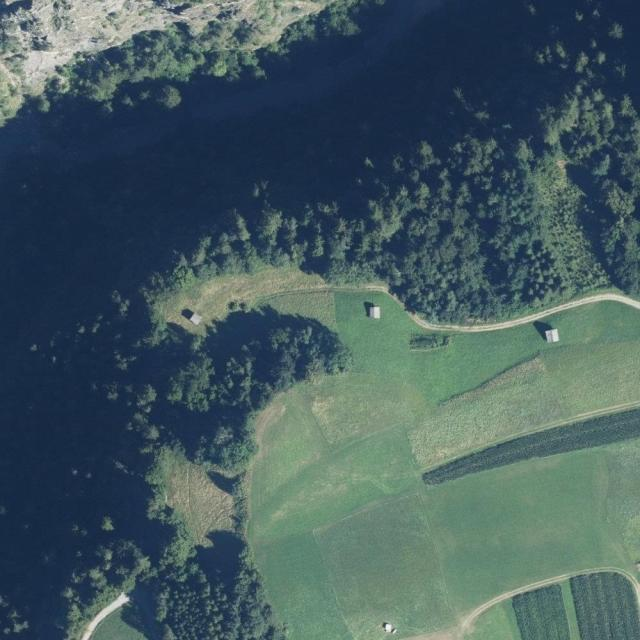building: (545, 329, 559, 343), (189, 313, 203, 326), (368, 306, 381, 318)
greenland: (419, 437, 640, 619), (418, 405, 640, 487), (154, 241, 331, 343), (340, 289, 459, 401), (440, 322, 551, 396), (551, 299, 640, 346), (539, 341, 640, 374), (413, 353, 469, 408), (334, 291, 371, 371), (266, 291, 336, 333), (89, 600, 153, 639), (90, 609, 149, 639), (356, 322, 384, 374), (408, 332, 452, 351), (342, 347, 353, 368)
unmetalled_road: (478, 575, 553, 612), (539, 563, 624, 587), (449, 602, 494, 640), (529, 416, 573, 437), (385, 288, 417, 316), (618, 564, 640, 602), (339, 283, 389, 291)
